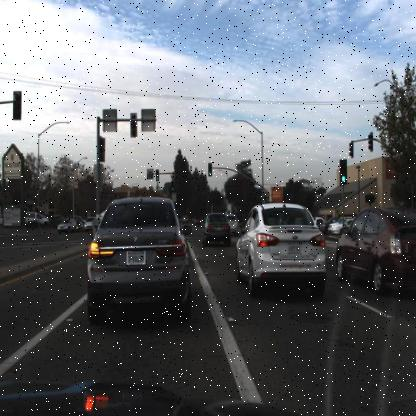car: (87, 199, 188, 314), (235, 192, 330, 294), (335, 203, 415, 295), (200, 211, 230, 251), (257, 205, 282, 237), (331, 219, 353, 237), (224, 207, 239, 233), (25, 210, 49, 226), (223, 214, 239, 237), (56, 215, 76, 231), (180, 209, 191, 226), (83, 214, 93, 232), (194, 212, 206, 226)
trafficLight: (12, 90, 21, 120), (366, 128, 376, 154), (130, 111, 140, 136), (99, 138, 107, 161), (350, 142, 358, 159)
trafficLight-Green: (340, 160, 347, 184), (208, 160, 216, 178), (170, 178, 177, 192), (157, 167, 163, 182), (208, 162, 214, 176), (264, 191, 269, 204)
